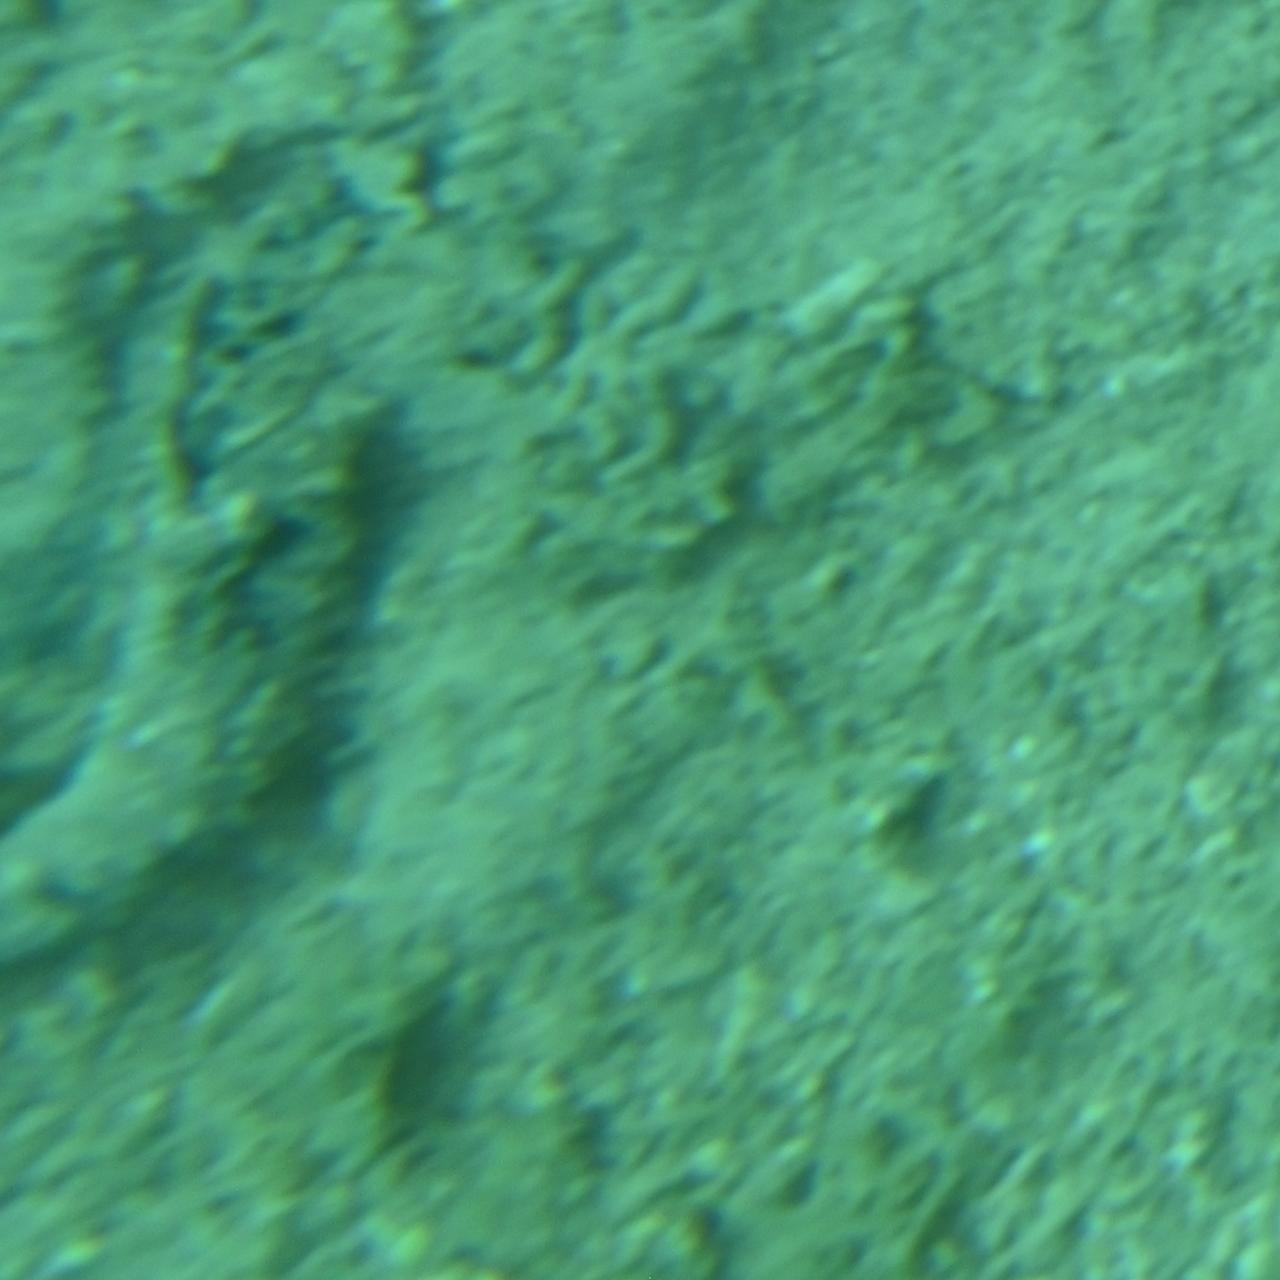Holothuria tubulosa: (0, 309, 434, 971)
